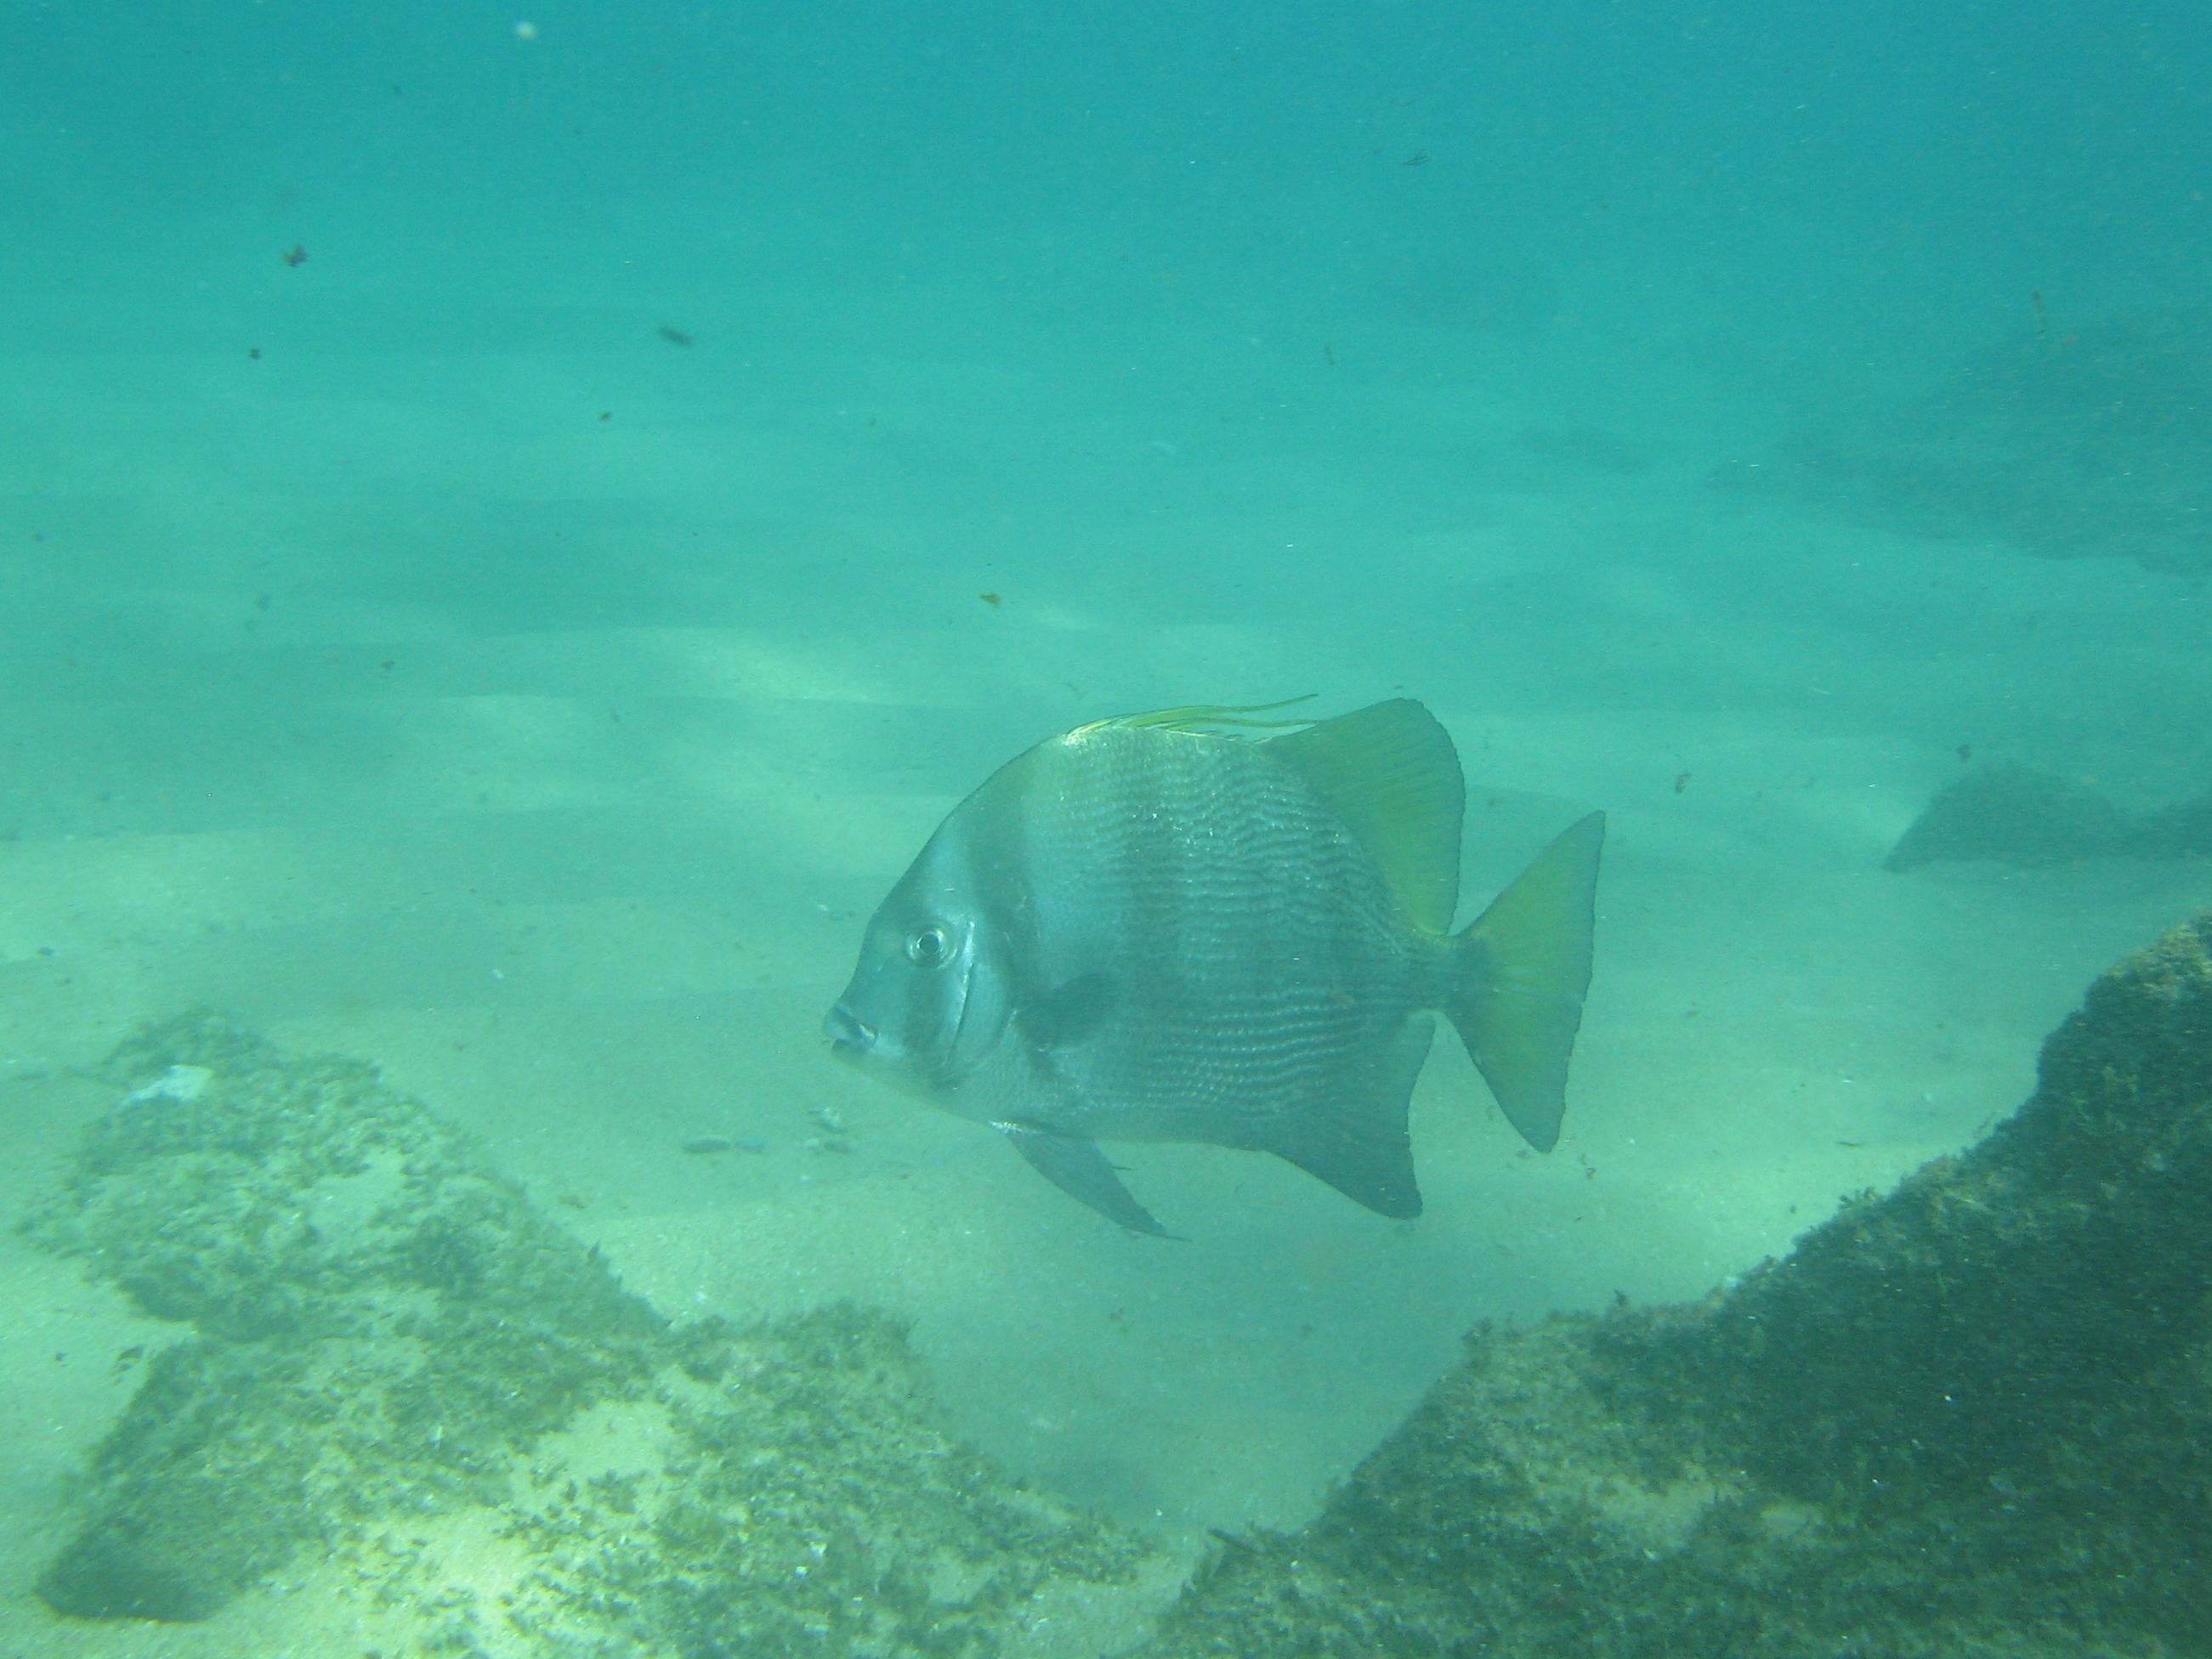Fish: (812, 667, 1628, 1255)
